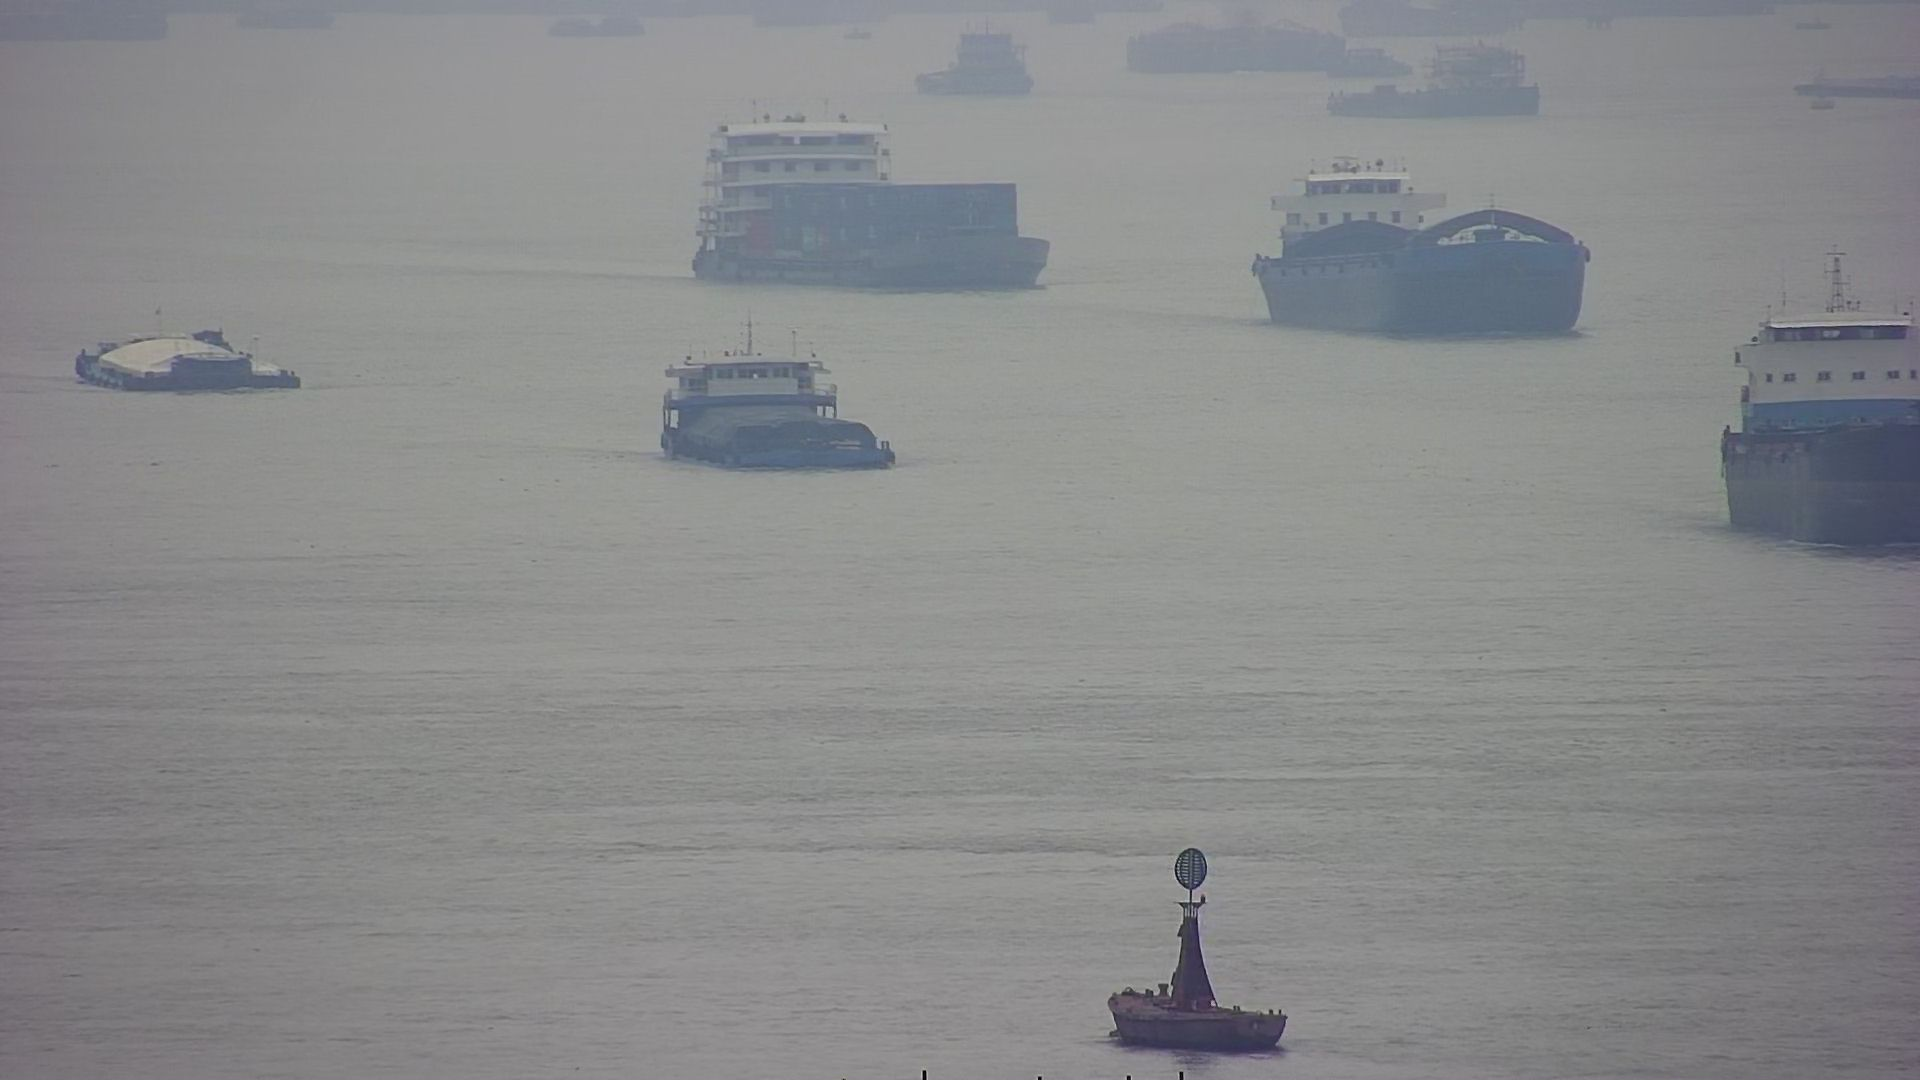boat: (1106, 849, 1284, 1048)
ship: (680, 108, 1051, 287), (1720, 244, 1920, 559), (1254, 161, 1590, 336), (659, 335, 903, 473), (76, 309, 309, 394)
